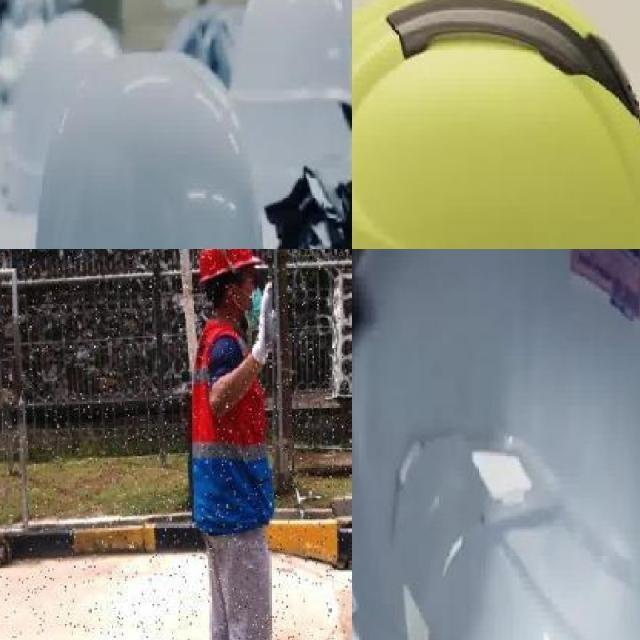apron: (250, 284, 280, 372)
